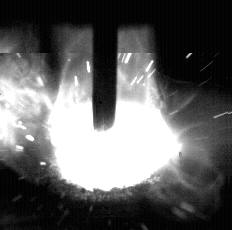arame: (94, 0, 117, 132)
poca: (49, 0, 179, 230)
